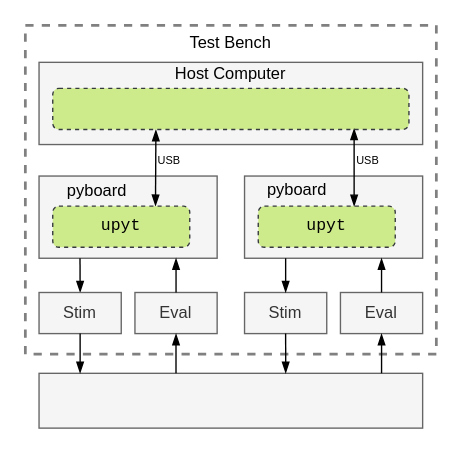
Image size: 460x452. Some labels were removed from this diagram. Here are the shapes that lost their labels. From the top down, the centre of each, then its label:
At [230,108]: "upytester".
At [230,400]: "Hardware Under Test".
